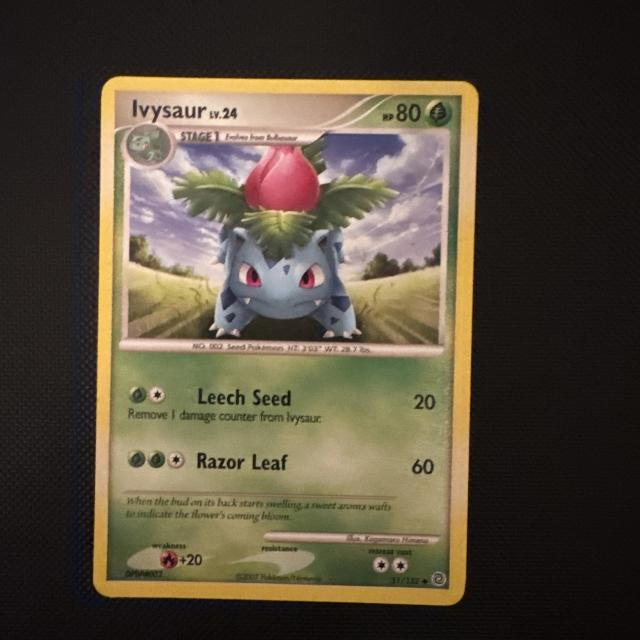Card: (83, 70, 487, 615)
Name: (124, 94, 211, 125)
